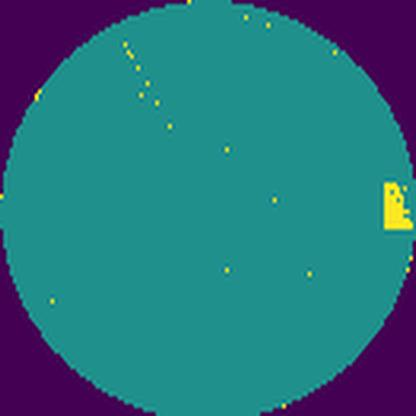Loc: (386, 179, 413, 229)
